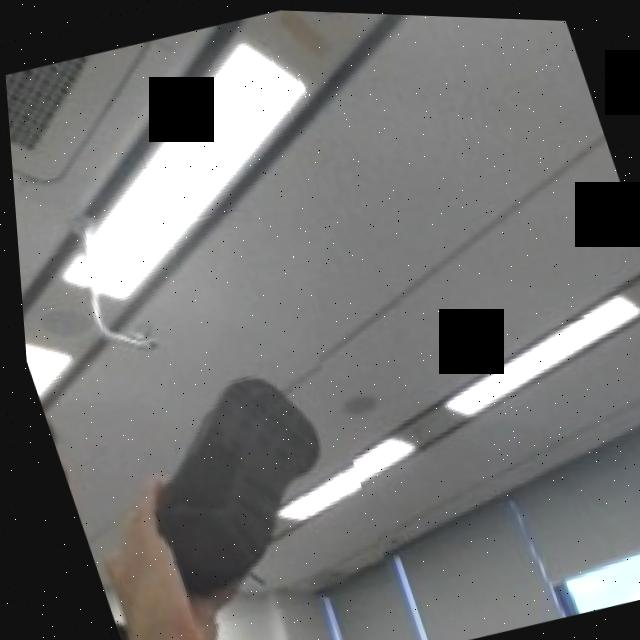shoe: (90, 308, 389, 635)
